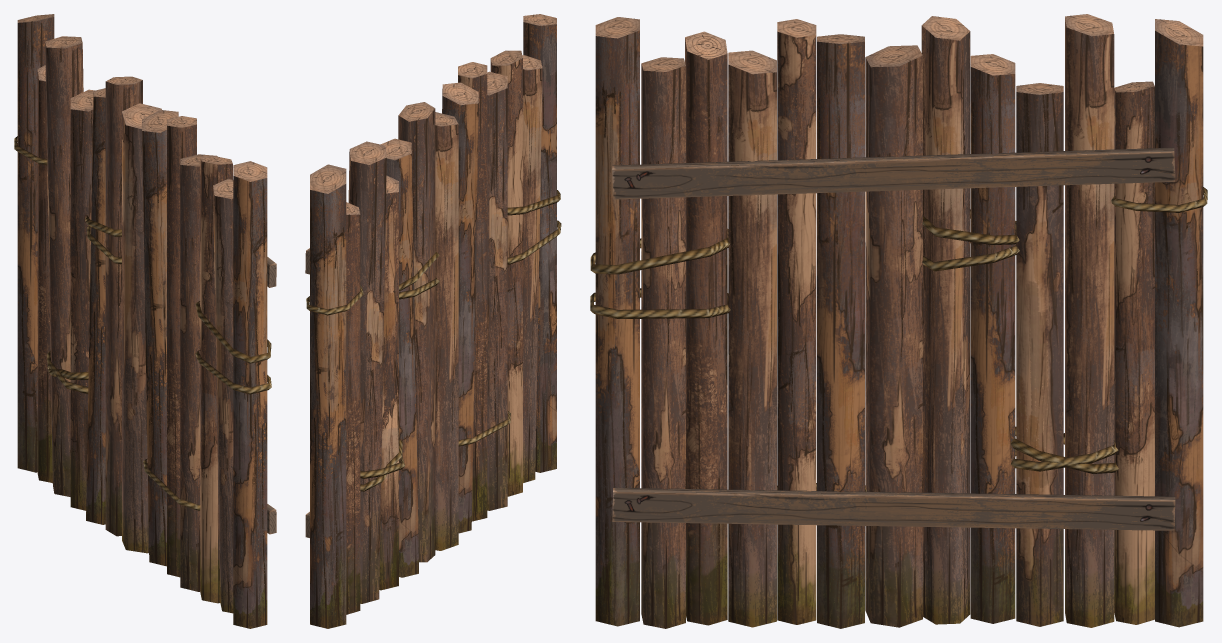
The model's file is fence_log_4m_B.fbx.
The picture shows the model from 3 angles, left to right: view 1: azimuth 30°, elevation 25°; view 2: azimuth 150°, elevation 25°; view 3: azimuth 270°, elevation 25°; orthographic projection. The views are drawn at different scales.
Parts seen in each view (by area): view 1: fence_log_4m_B; view 2: fence_log_4m_B; view 3: fence_log_4m_B.
Part boxes in pixels (left/top/right/bottom): fence_log_4m_B: left=14, top=14, right=276, bottom=628; fence_log_4m_B: left=305, top=14, right=561, bottom=628; fence_log_4m_B: left=590, top=14, right=1207, bottom=628.
Size of the model in its own units: 48.68 by 430 by 407.
